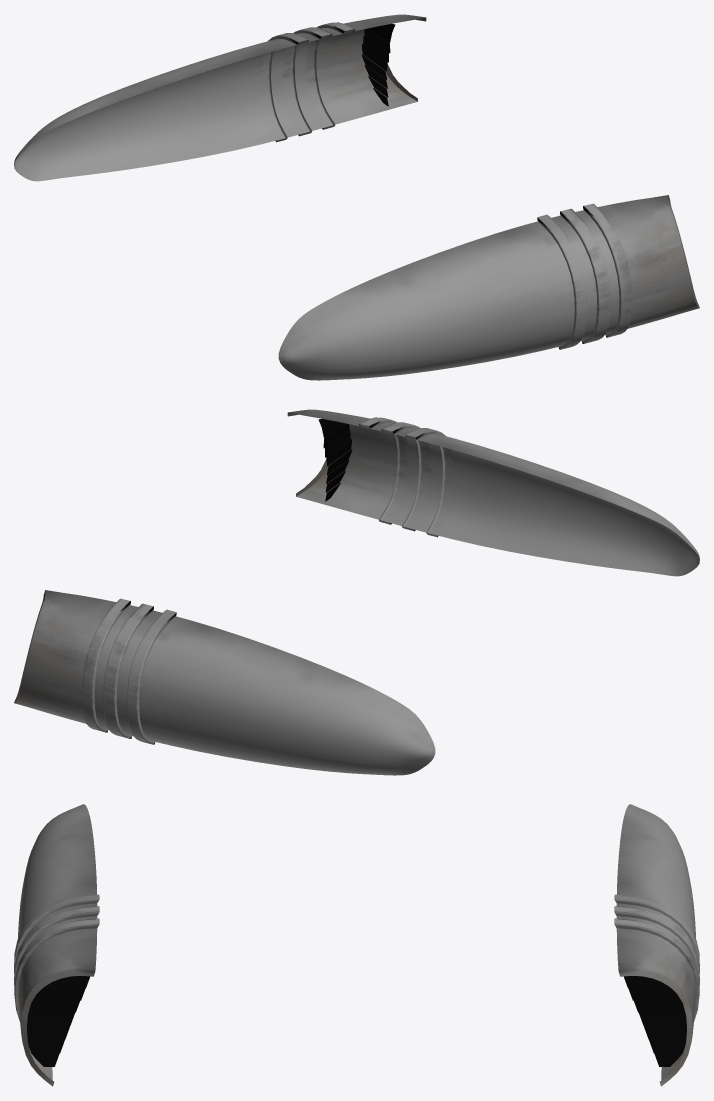
Rendered from lateralmotors.fbx.
The picture shows the model from 3 angles, top to bottom: view 1: azimuth 30°, elevation 25°; view 2: azimuth 150°, elevation 25°; view 3: azimuth 270°, elevation 25°; orthographic projection. The views are drawn at different scales.
Parts seen in each view (by area): view 1: lateralmotors; view 2: lateralmotors; view 3: lateralmotors.
Boxes of the visible parts, left/top/right/bottom form: lateralmotors: left=14, top=14, right=699, bottom=380; lateralmotors: left=14, top=409, right=699, bottom=775; lateralmotors: left=14, top=804, right=699, bottom=1086.
Bounding box in the file's own units: 31.44 × 8.49 × 41.96.
